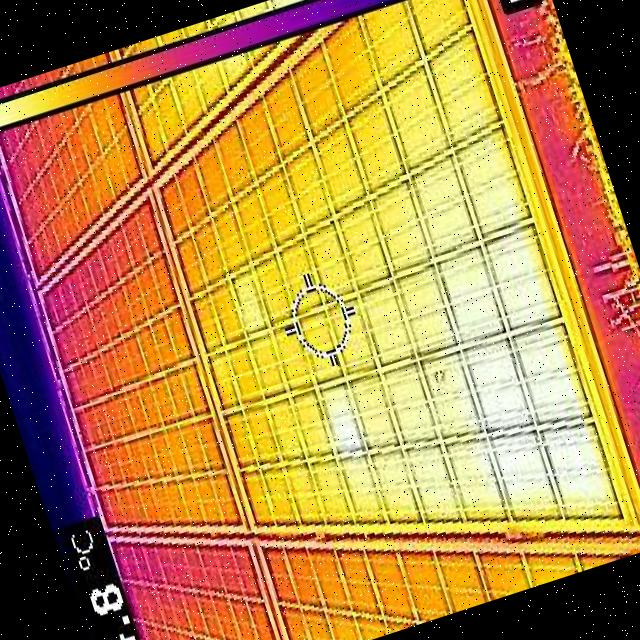Hotspot: (418, 202, 624, 529), (317, 383, 361, 450)
